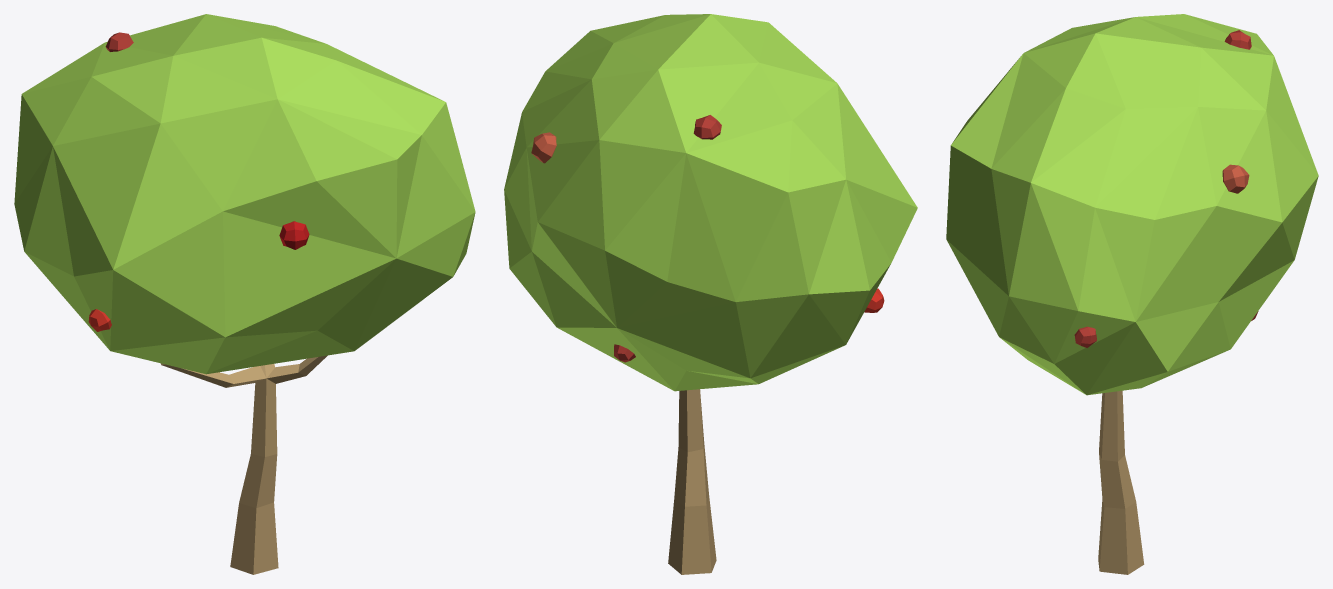
The model's file is Apple_Tree_Apples_m_02_LOD.fbx.
The picture shows the model from 3 angles, left to right: view 1: azimuth 30°, elevation 25°; view 2: azimuth 150°, elevation 25°; view 3: azimuth 270°, elevation 25°; orthographic projection. The views are drawn at different scales.
Parts seen in each view (by area): view 1: Apple_Tree_Apples_m_02_LOD0; view 2: Apple_Tree_Apples_m_02_LOD0; view 3: Apple_Tree_Apples_m_02_LOD0.
Part boxes in pixels (x1=…): Apple_Tree_Apples_m_02_LOD0: x1=14, y1=14, x2=475, y2=574; Apple_Tree_Apples_m_02_LOD0: x1=504, y1=14, x2=917, y2=574; Apple_Tree_Apples_m_02_LOD0: x1=946, y1=14, x2=1318, y2=574.
Size of what is drawn, in the model's own units: 515 by 667 by 426.
